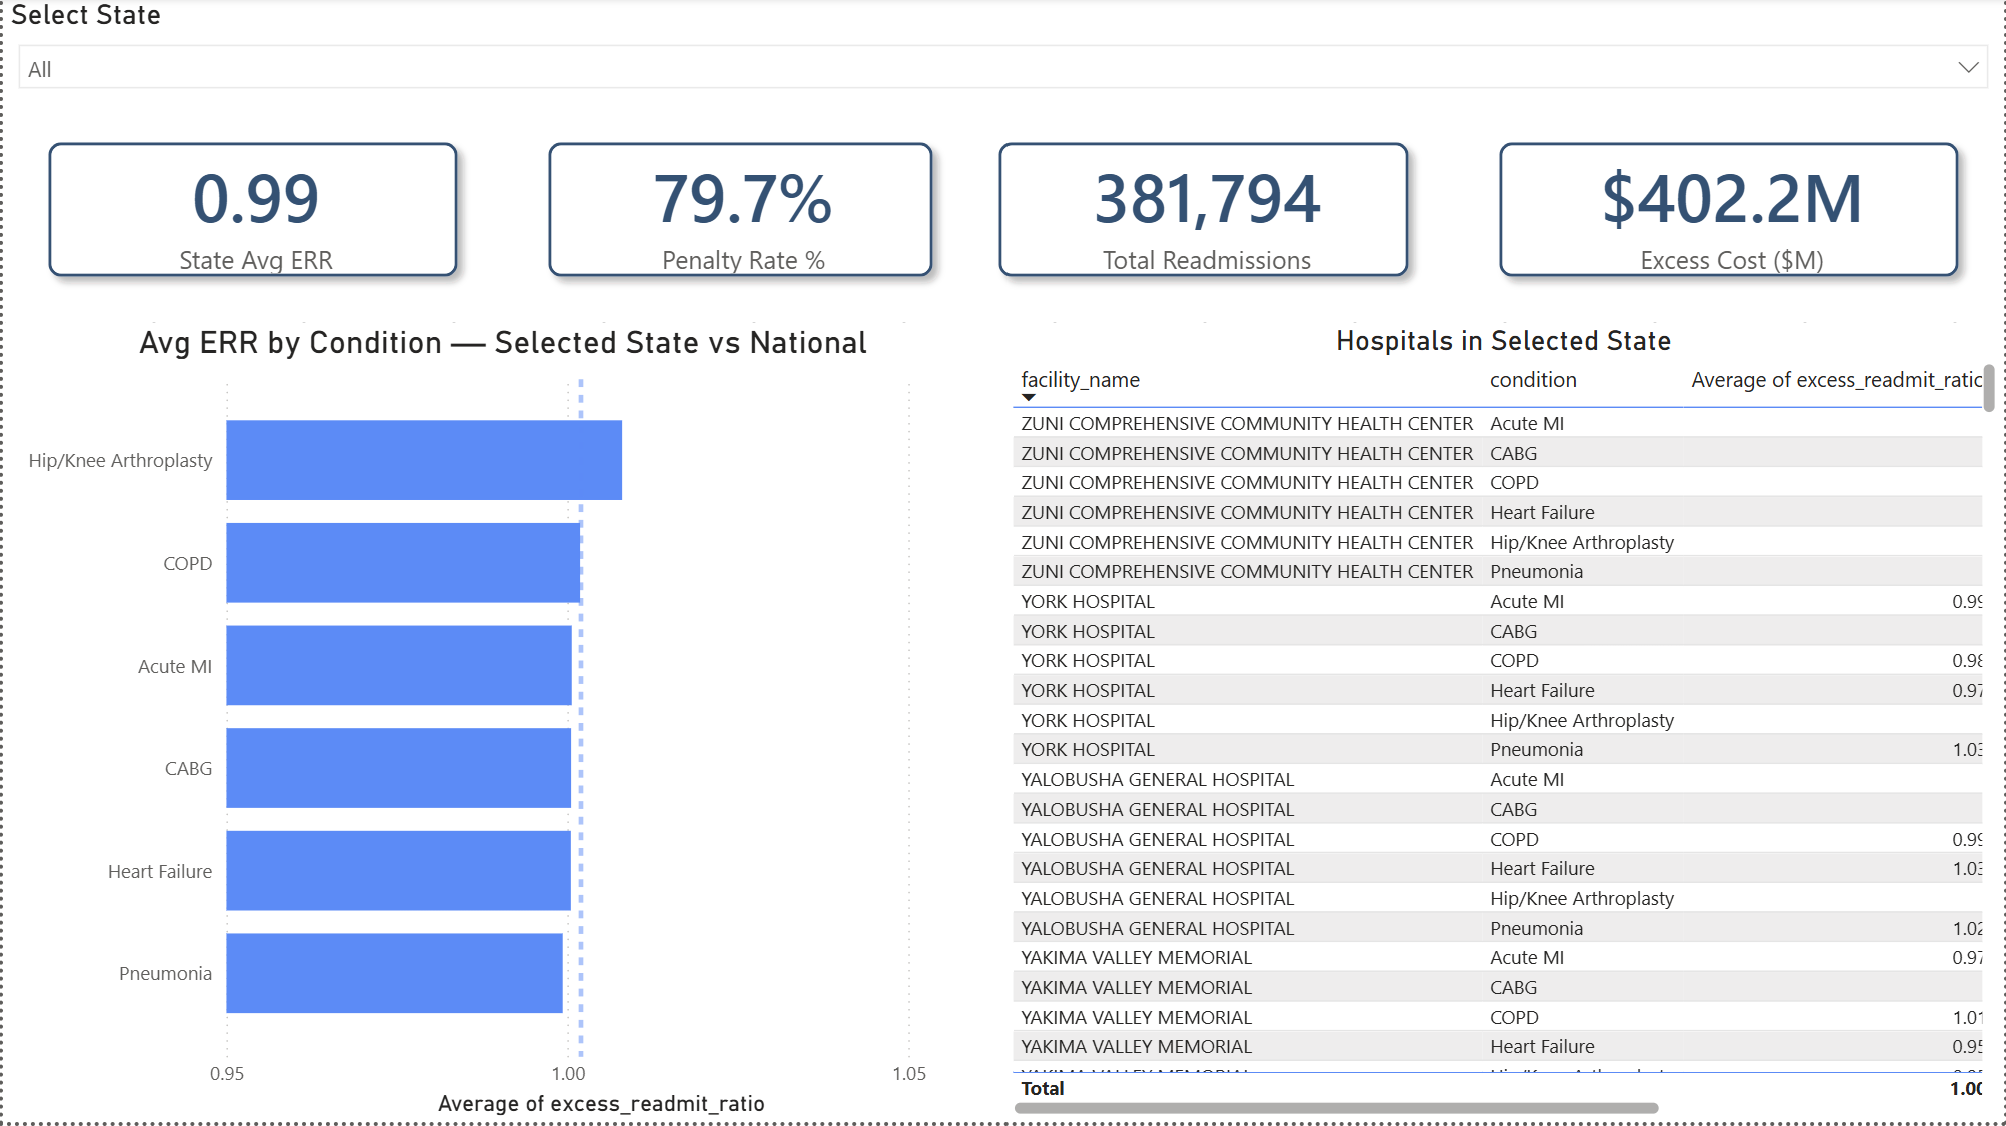

The page's visual inventory and layout, read from the dashboard file:
{"tool":"powerbi","page":{"name":"State Benchmarking","canvas":[1280,720],"ordinal":4},"visuals":[{"type":"slicer","title":"Select State","fields":{"Values":["vw_state_summary.state"]},"box":[0,0,1280,64],"z":0},{"type":"cardVisual","fields":{"Data":["Avg(vw_state_summary.state_avg_err)"]},"box":[0,64,320,144],"z":1000},{"type":"cardVisual","fields":{"Data":["vw_state_summary.SB - Penalty Rate"]},"box":[320,64,304,144],"z":2000},{"type":"cardVisual","fields":{"Data":["vw_state_summary.SB - Total Readmissions"]},"box":[608,64,320,144],"z":3000},{"type":"cardVisual","fields":{"Data":["vw_state_summary.SB - Excess Cost"]},"box":[928,64,352,144],"z":4000},{"type":"clusteredBarChart","title":"Avg ERR by Condition — Selected State vs National","fields":{"Category":["vw_hospital_detail.condition"],"Y":["Avg(vw_hospital_detail.excess_readmit_ratio)"]},"box":[0,208,640,512],"z":5000},{"type":"tableEx","title":"Hospitals in Selected State","fields":{"Values":["vw_hospital_detail.facility_name","vw_hospital_detail.condition","Avg(vw_hospital_detail.excess_readmit_ratio)","Sum(vw_hospital_detail.penalty_flag)","Sum(vw_hospital_detail.est_excess_cost_usd)"]},"box":[640,208,640,512],"z":6000}]}

Visuals, with their boxes in screenshot pixels (x1, y1, x2, y2), scaled from the page's 1280x720 canvas onto the 2006x1126 screenshot:
"Select State" slicer: x1=0, y1=0, x2=2005, y2=100
cardVisual - Avg(vw_state_summary.state_avg_err): x1=0, y1=100, x2=502, y2=325
cardVisual - vw_state_summary.SB - Penalty Rate: x1=502, y1=100, x2=978, y2=325
cardVisual - vw_state_summary.SB - Total Readmissions: x1=953, y1=100, x2=1454, y2=325
cardVisual - vw_state_summary.SB - Excess Cost: x1=1454, y1=100, x2=2005, y2=325
"Avg ERR by Condition — Selected State vs National" clusteredBarChart: x1=0, y1=325, x2=1003, y2=1125
"Hospitals in Selected State" tableEx: x1=1003, y1=325, x2=2005, y2=1125
